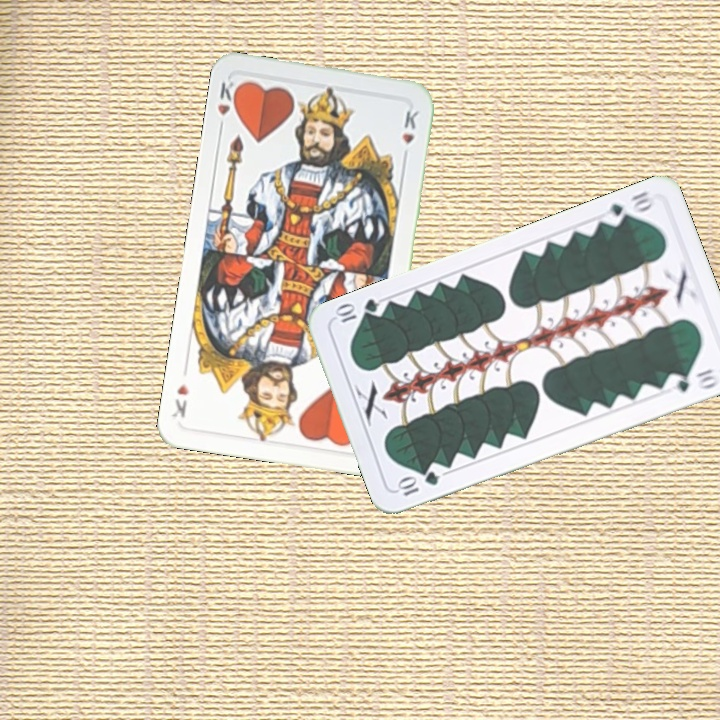G10: (599, 187, 658, 229), (393, 467, 442, 499)
HK: (213, 76, 243, 135)
